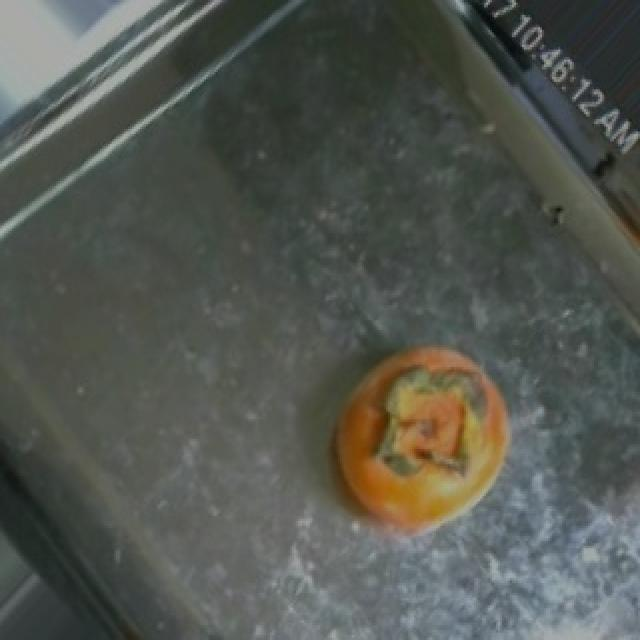Fruit: (308, 325, 532, 553)
